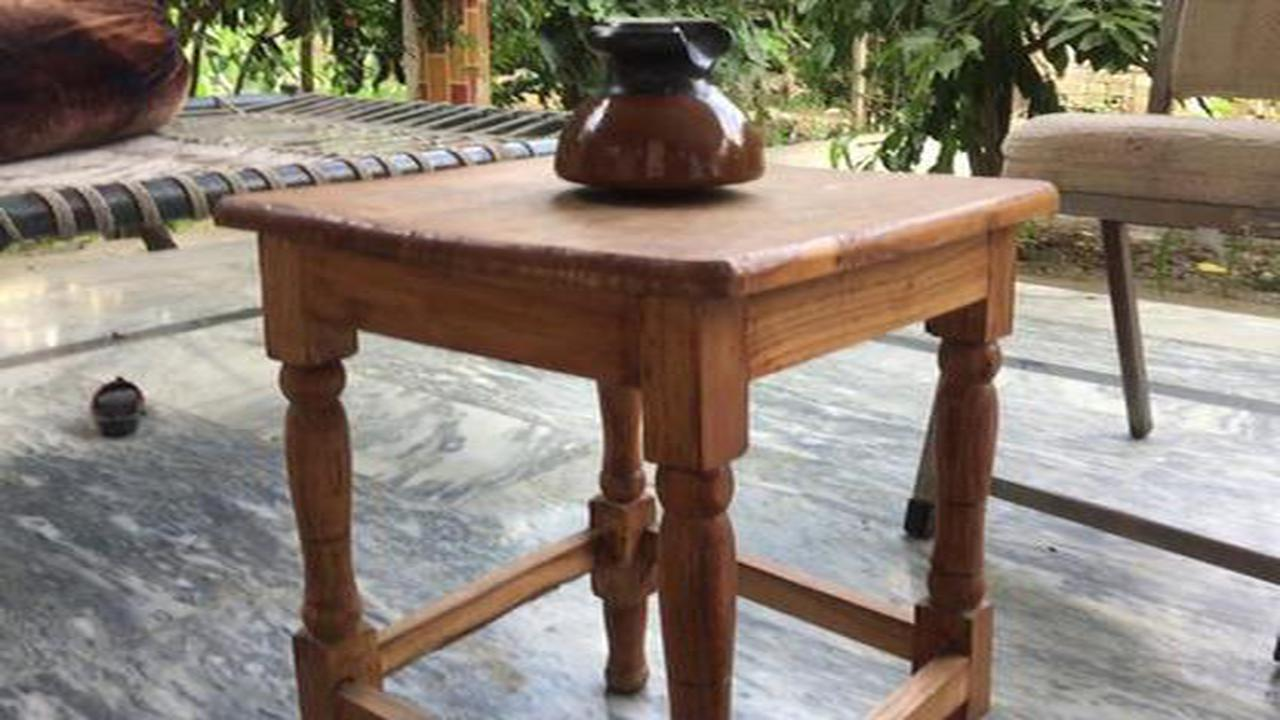insulator_pin: (554, 12, 767, 200)
